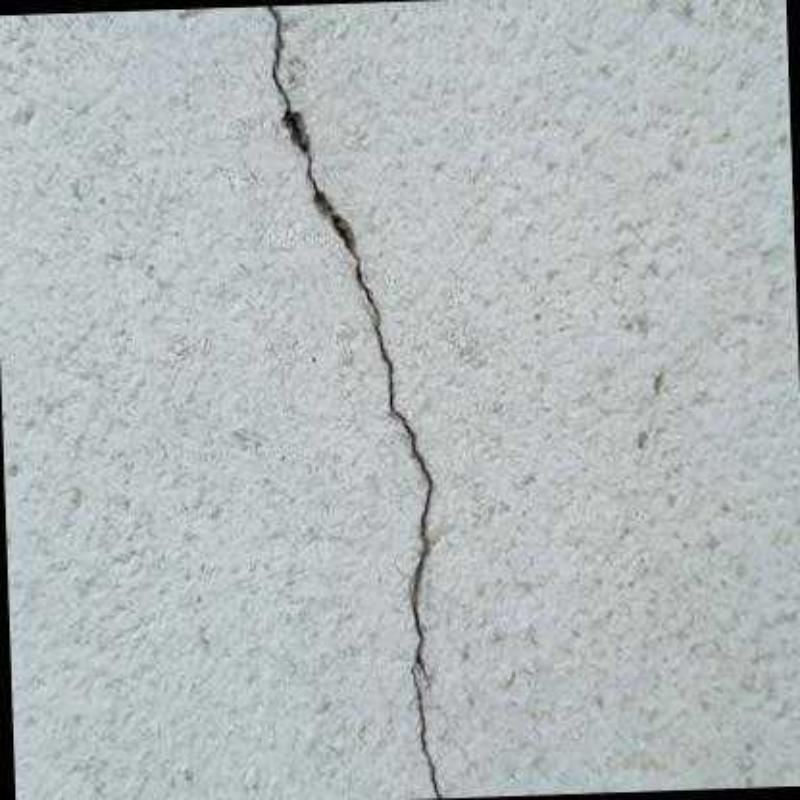crack: (263, 4, 448, 799)
